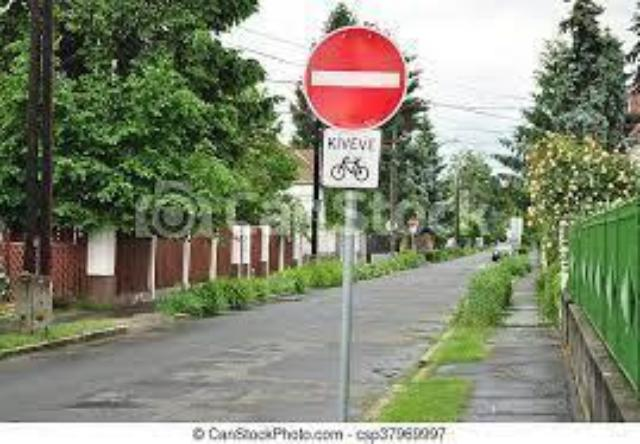B2: (297, 22, 408, 130)
